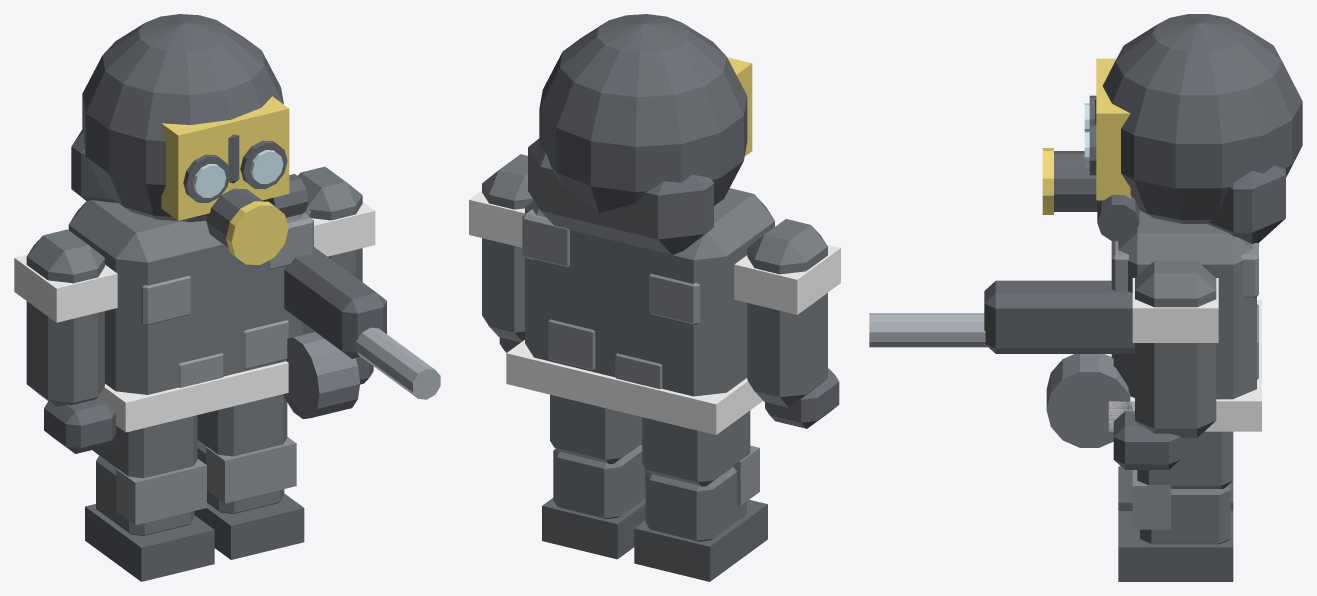
File: breaker@toxico.glb
The picture shows the model from 3 angles, left to right: view 1: azimuth 30°, elevation 25°; view 2: azimuth 150°, elevation 25°; view 3: azimuth 270°, elevation 25°; orthographic projection. The views are drawn at different scales.
Visible parts, largest first — view 1: main, shinl, shinr, legl, legr; view 2: main, shinl, shinr, legl, legr; view 3: main, shinr, legr, shinl.
Part boxes in pixels (left/top/right/bottom): main: left=14, top=14, right=440, bottom=453; shinl: left=85, top=456, right=214, bottom=581; shinr: left=194, top=437, right=304, bottom=559; legl: left=92, top=415, right=197, bottom=478; legr: left=197, top=394, right=287, bottom=456; main: left=469, top=14, right=840, bottom=434; shinl: left=634, top=445, right=767, bottom=581; shinr: left=542, top=443, right=647, bottom=559; legl: left=642, top=410, right=750, bottom=486; legr: left=550, top=394, right=642, bottom=464; main: left=869, top=14, right=1302, bottom=469; shinr: left=1118, top=470, right=1233, bottom=581; legr: left=1137, top=431, right=1233, bottom=489; shinl: left=1118, top=466, right=1233, bottom=510.
Size of the model in its own units: 0.391 by 0.5975 by 0.4525.
